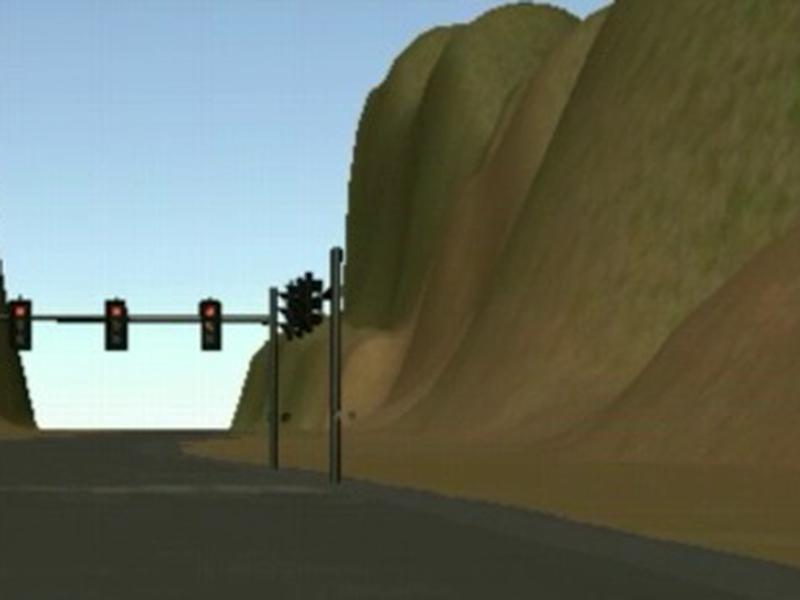Red: (198, 299, 221, 349), (105, 299, 127, 351), (10, 300, 31, 349)
